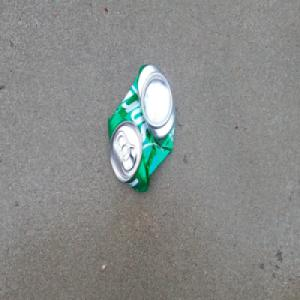SodaCan: (107, 64, 178, 197)
